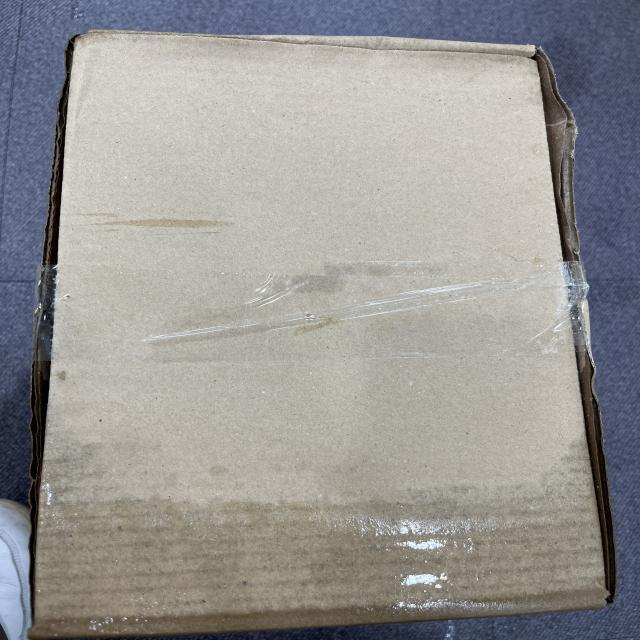wet: (29, 478, 598, 637)
